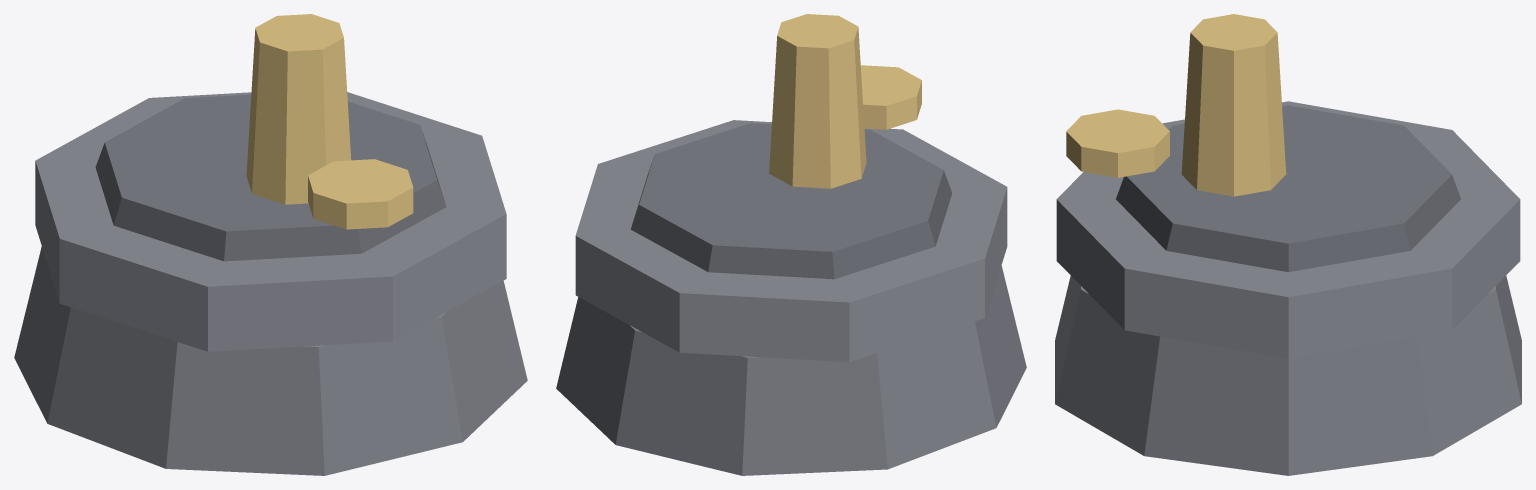
The model's file is tower_cannon_detailed.glb.
The picture shows the model from 3 angles, left to right: view 1: azimuth 30°, elevation 25°; view 2: azimuth 150°, elevation 25°; view 3: azimuth 270°, elevation 25°; orthographic projection. The views are drawn at different scales.
Parts seen in each view (by area): view 1: BaseStone, Parapet, TurretChassis, CannonBarrel; view 2: BaseStone, Parapet, TurretChassis, CannonBarrel; view 3: BaseStone, Parapet, TurretChassis, CannonBarrel.
Part boxes in pixels (x1,y1,x2,y2): BaseStone: (14, 246, 527, 475); Parapet: (35, 92, 506, 351); TurretChassis: (95, 94, 446, 261); CannonBarrel: (246, 14, 413, 229); BaseStone: (556, 265, 1026, 475); Parapet: (575, 120, 1007, 361); TurretChassis: (630, 123, 952, 279); CannonBarrel: (769, 14, 921, 188); BaseStone: (1055, 275, 1521, 475); Parapet: (1056, 101, 1520, 358); TurretChassis: (1116, 105, 1460, 272); CannonBarrel: (1066, 14, 1286, 196).
Size of the model in its own units: 3.6 by 2.75 by 3.42.
